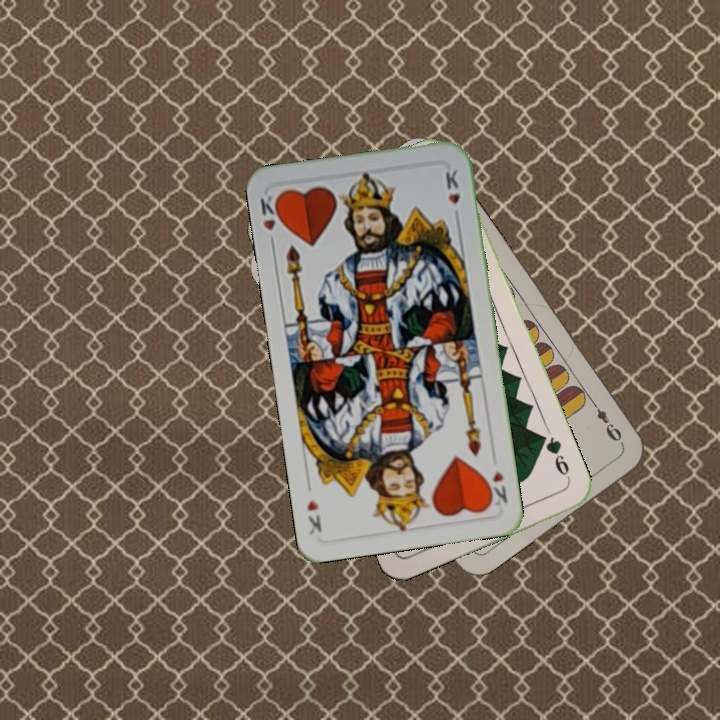E9: (587, 396, 626, 447)
G9: (536, 431, 574, 485)
HK: (255, 189, 285, 250), (482, 466, 510, 511)
